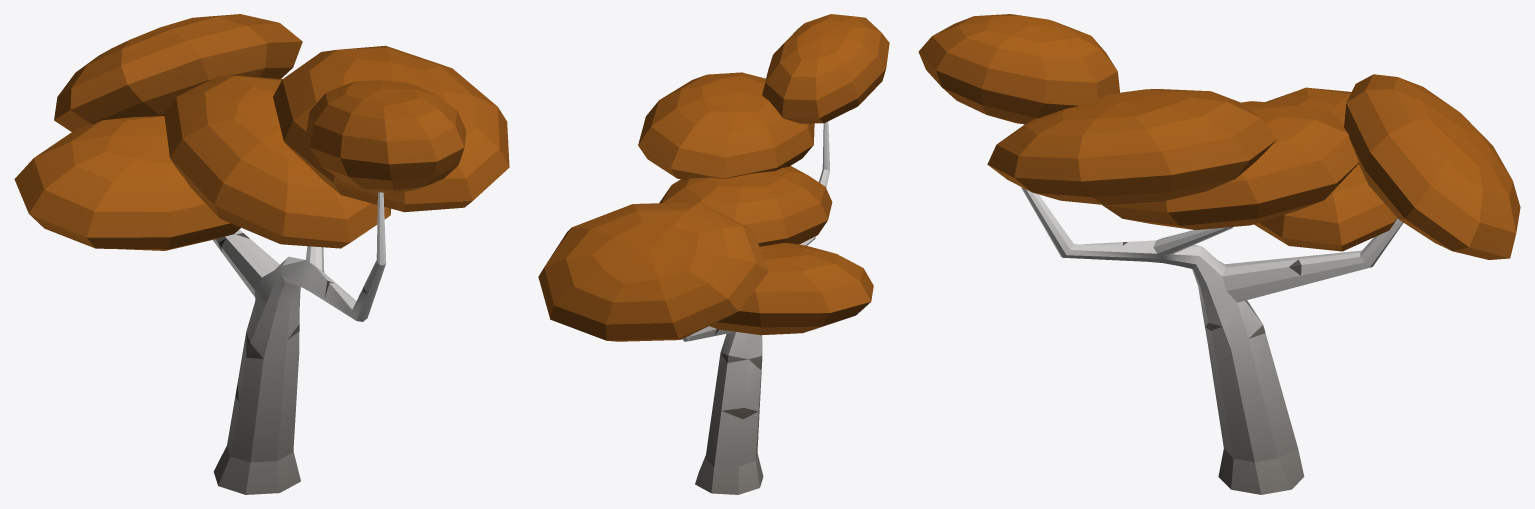
File: arbol4.fbx
3 renders of one model, left to right at view 1: azimuth 30°, elevation 25°; view 2: azimuth 150°, elevation 25°; view 3: azimuth 270°, elevation 25°, orthographic. The views are drawn at different scales.
Visible parts, largest first — view 1: arbol4; view 2: arbol4; view 3: arbol4.
Part boxes in pixels (box(x1,y1,x2,y2)): arbol4: box(14, 14, 509, 494); arbol4: box(538, 14, 889, 494); arbol4: box(918, 14, 1520, 494).
Size of the model in its own units: 1213 by 1544 by 1852.
